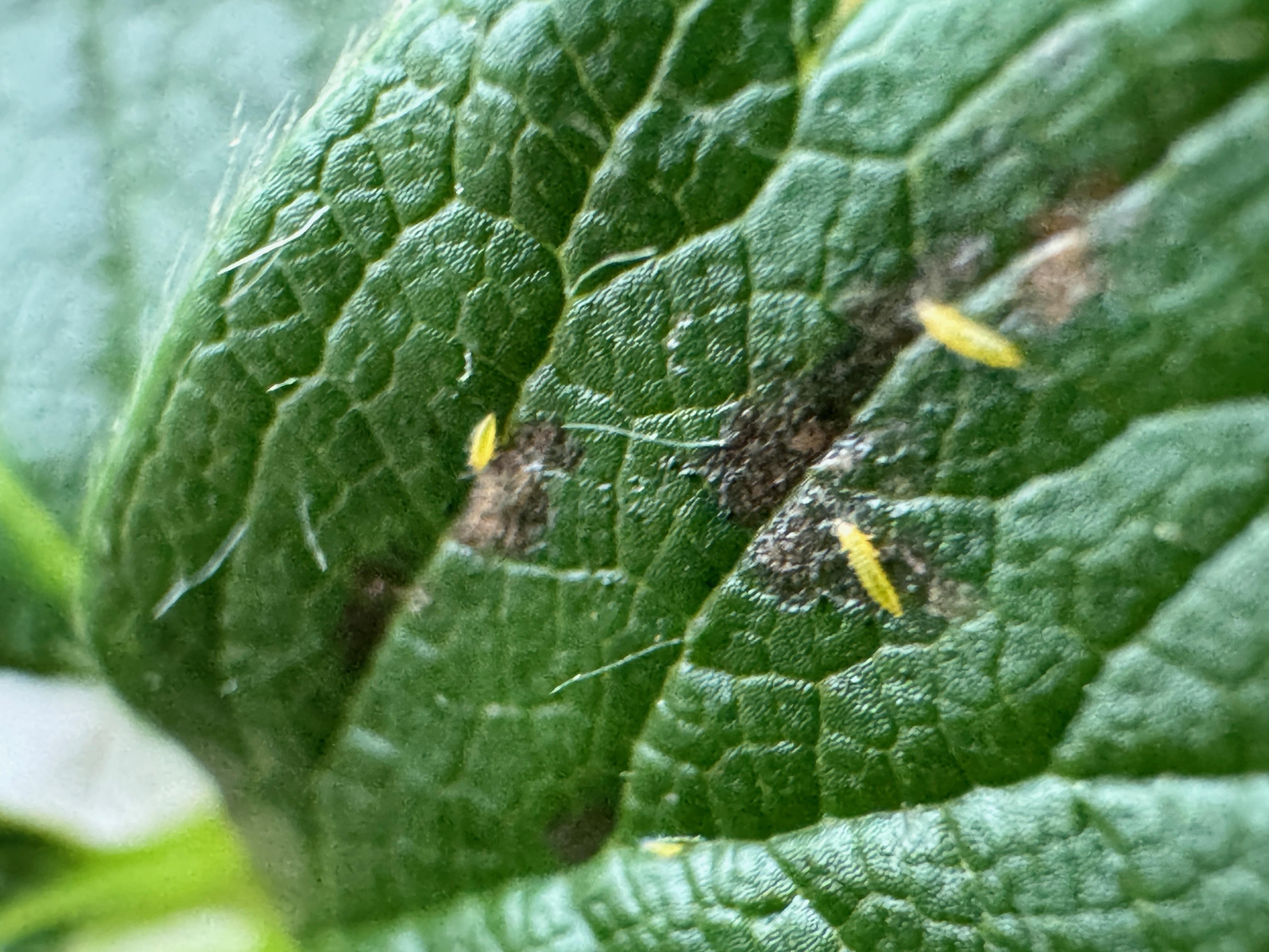tiny_pests: (806, 486, 944, 661), (892, 272, 1053, 406), (447, 386, 518, 494)
